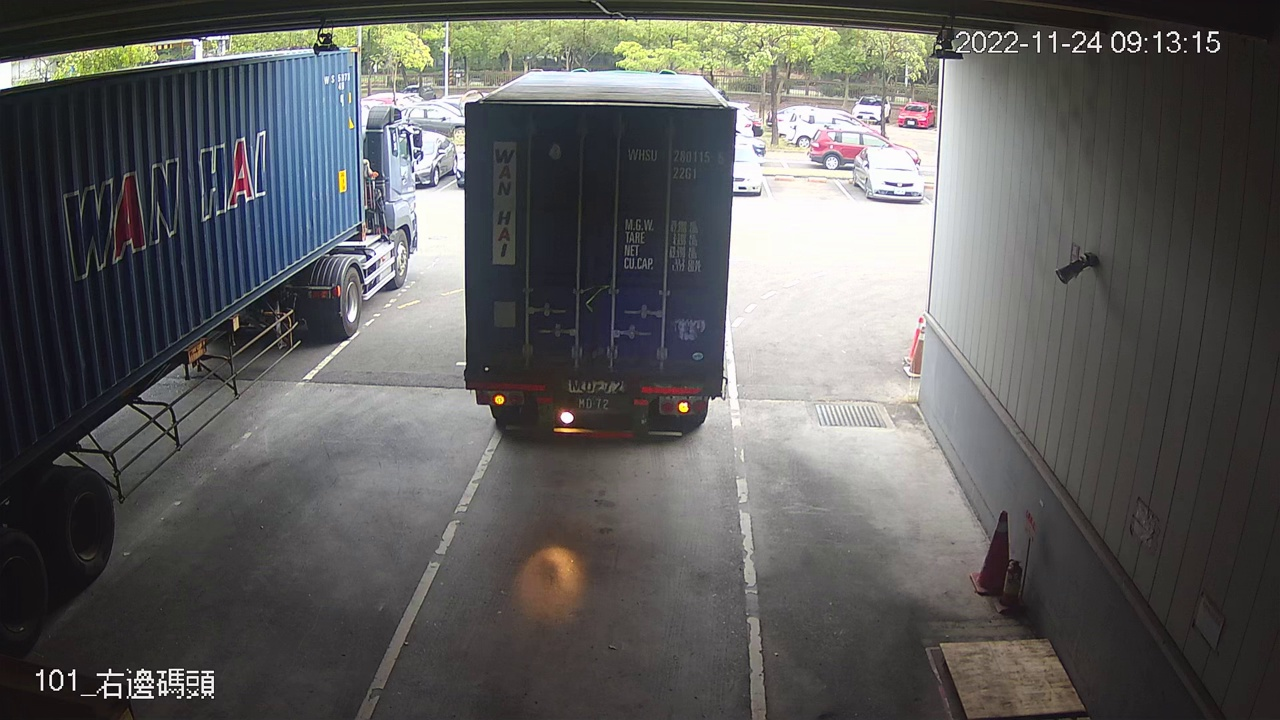container: (623, 142, 727, 185)
